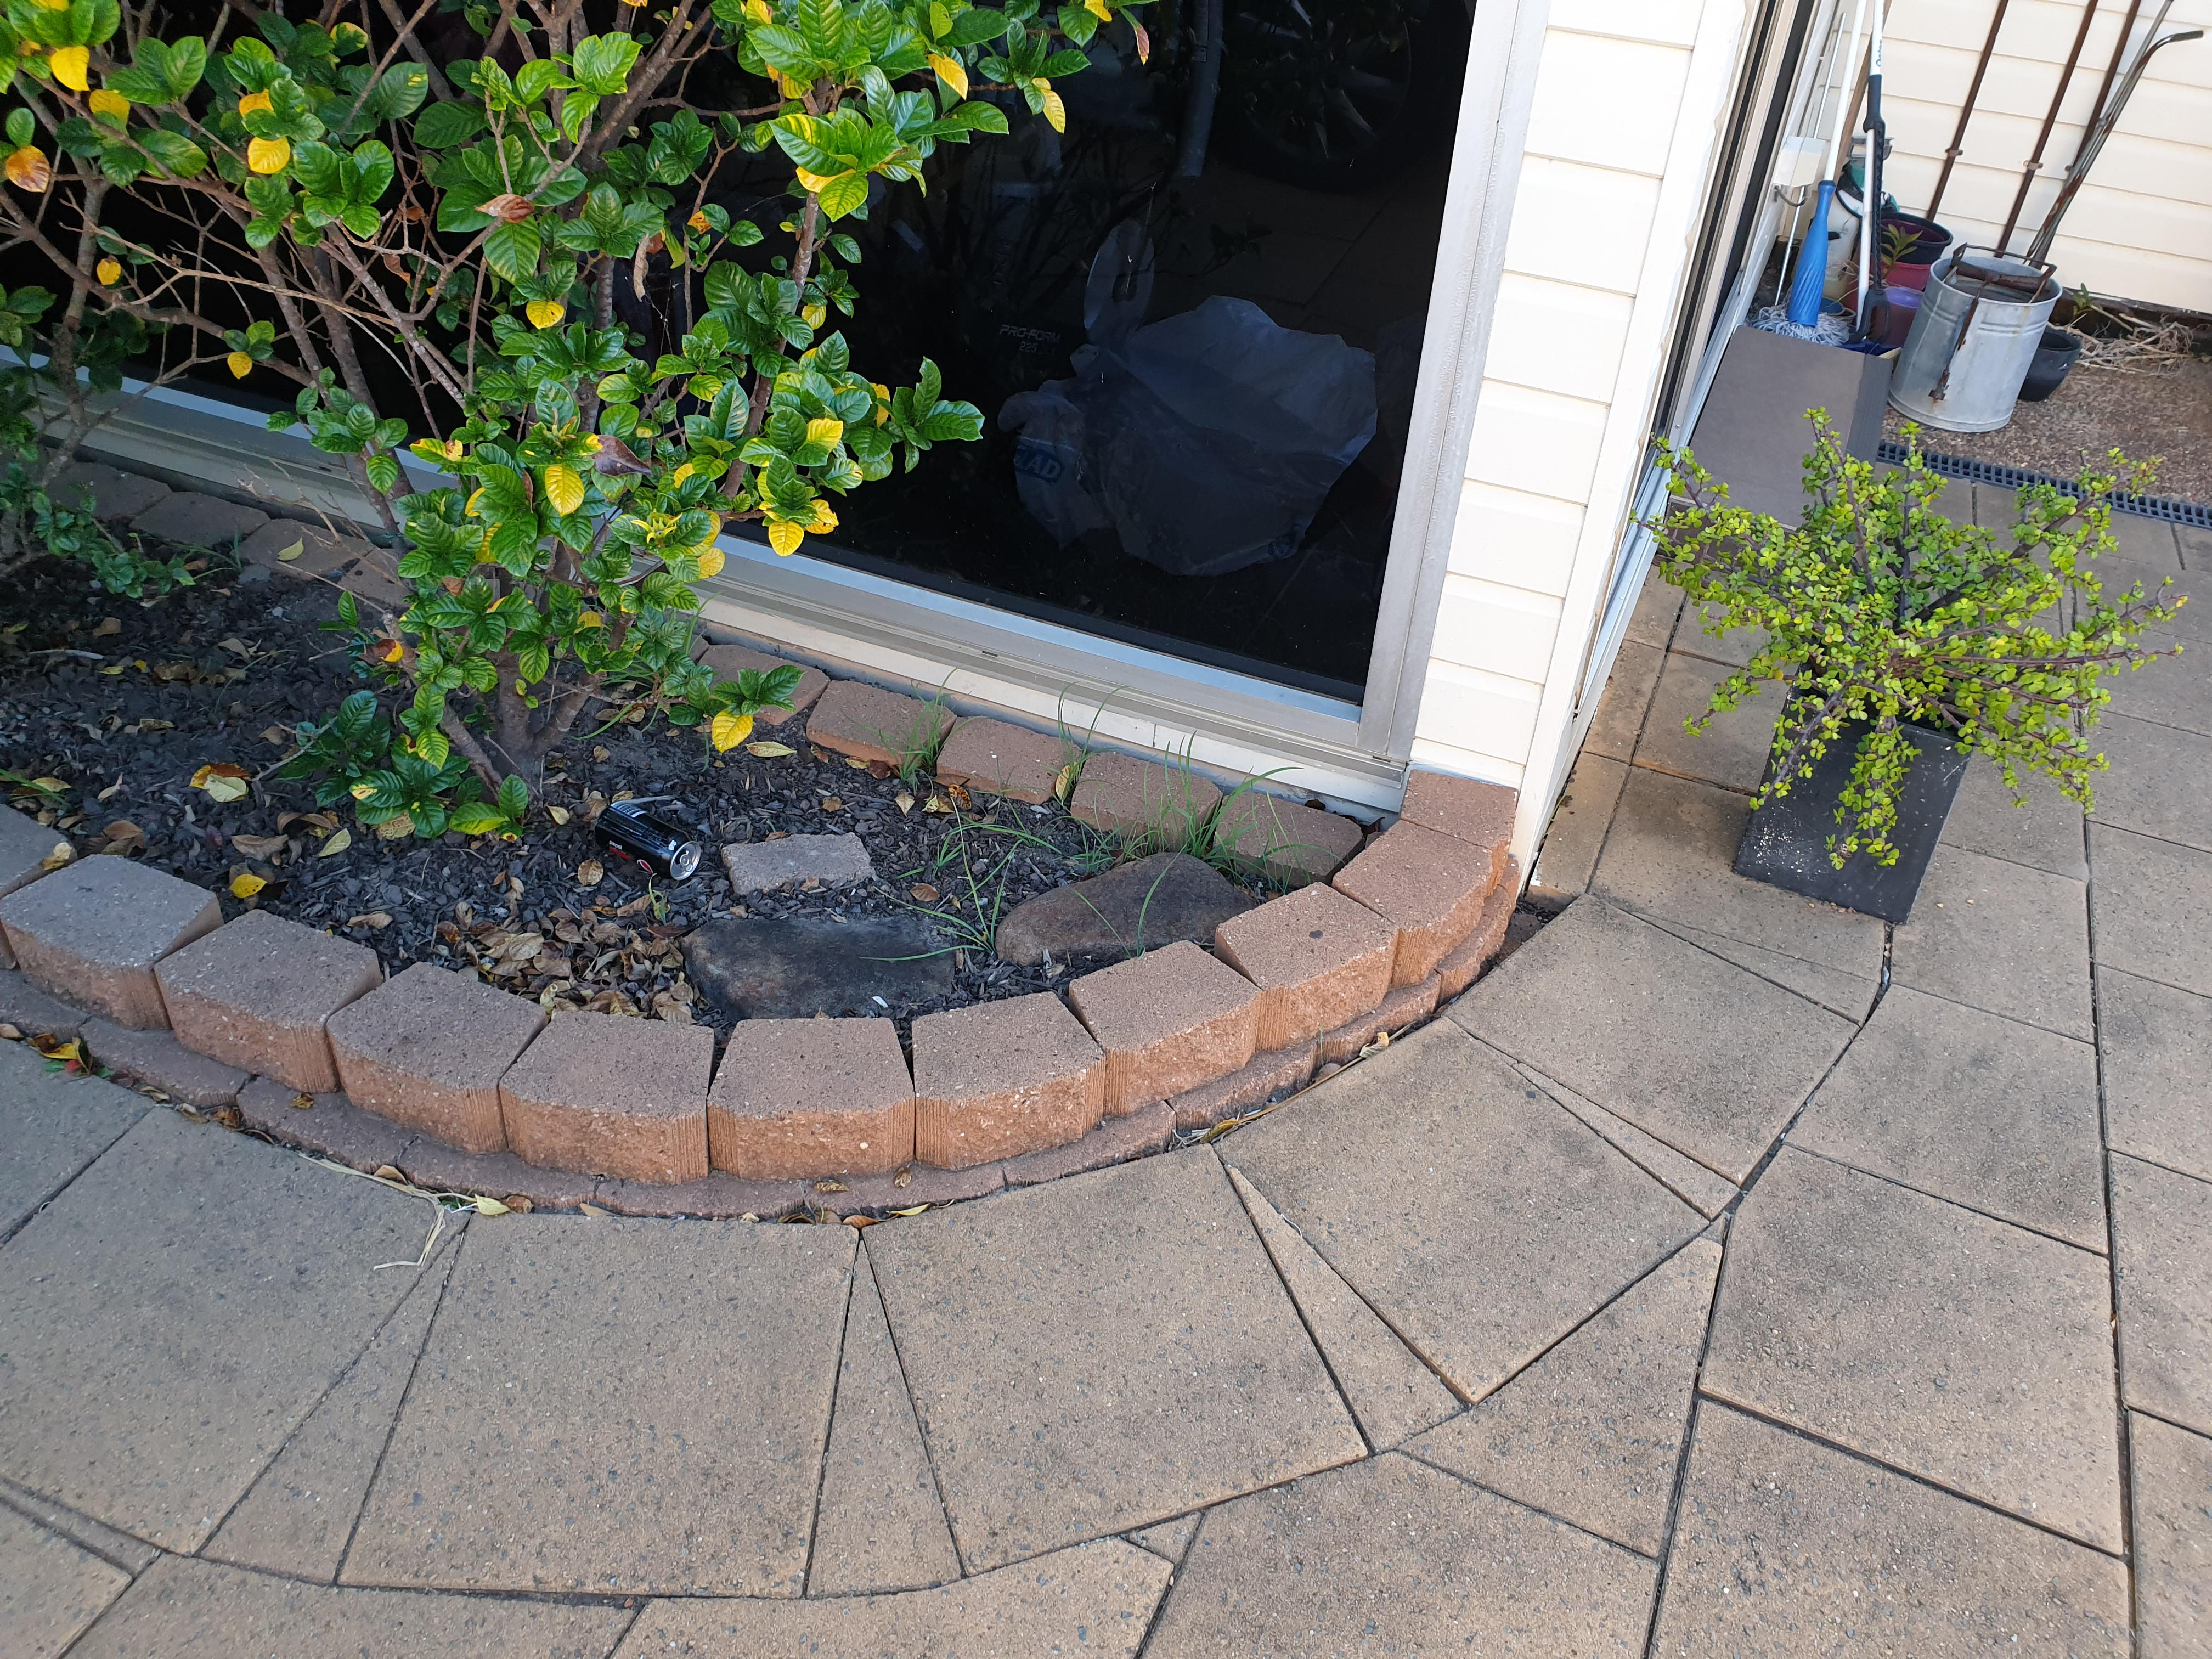Plastic Bottle: (594, 802, 702, 878)
